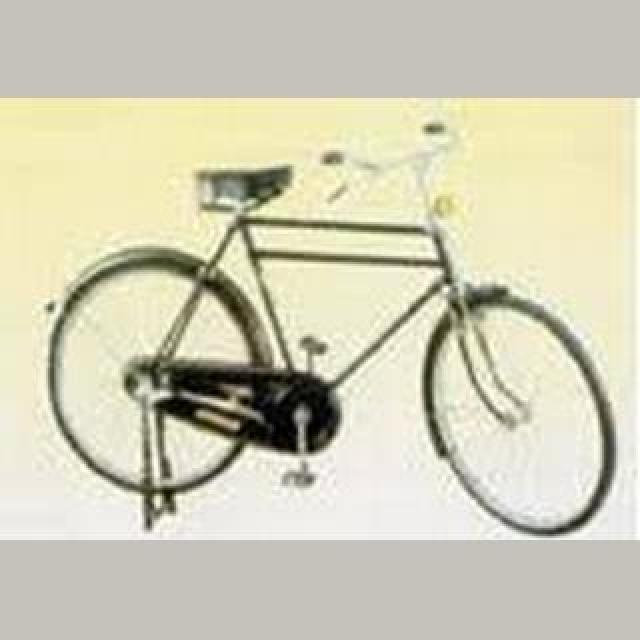Person: (47, 120, 619, 540)
